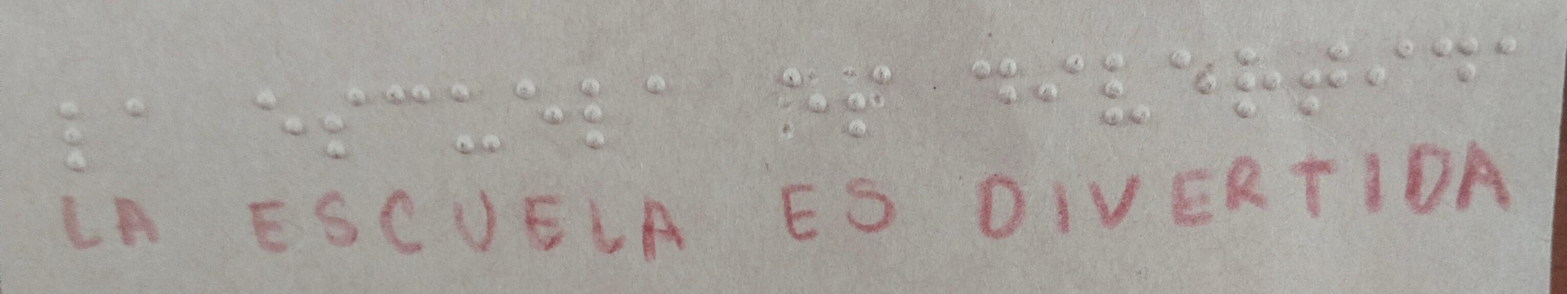a: (1480, 20, 1536, 78), (113, 84, 169, 135), (625, 70, 690, 111)
c: (377, 82, 434, 124)
d: (1415, 22, 1485, 94), (968, 46, 1022, 133)
e: (770, 49, 838, 130), (1159, 41, 1222, 107), (507, 77, 567, 136), (258, 84, 309, 148)
i: (1357, 24, 1415, 121), (1024, 46, 1087, 116)
l: (43, 99, 111, 182), (570, 73, 611, 162)
r: (1224, 37, 1289, 128)
s: (838, 46, 900, 145), (317, 84, 367, 162)
t: (1289, 34, 1357, 128)
u: (442, 77, 505, 160)
v: (1091, 46, 1157, 138)
